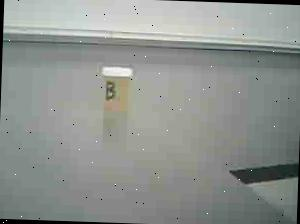Bottle B: (94, 62, 139, 116)
